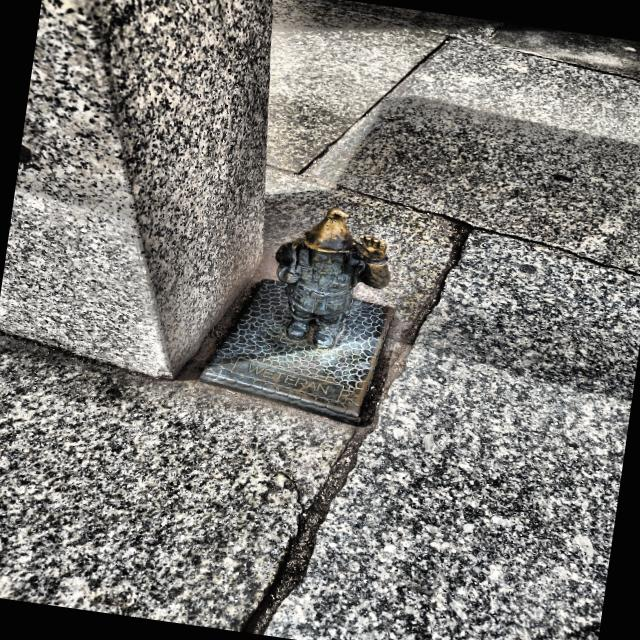Weteran: (275, 207, 390, 350)
